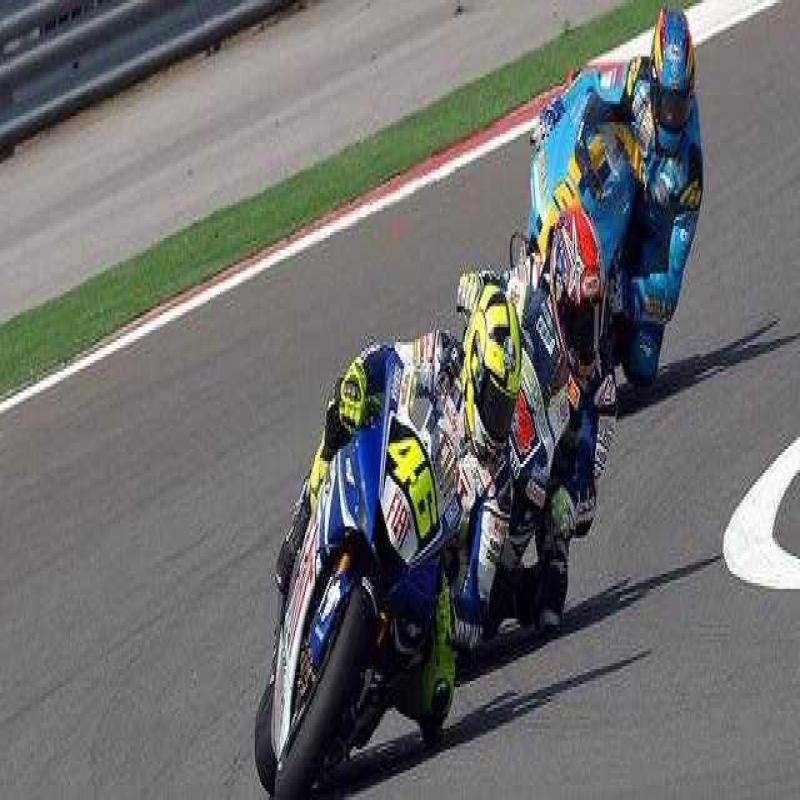bike: (251, 314, 452, 792)
